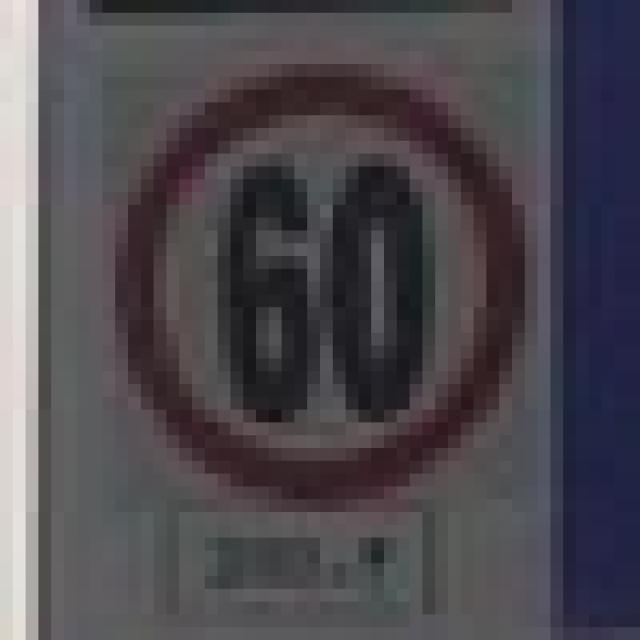speed_limit_40: (102, 51, 512, 486)
